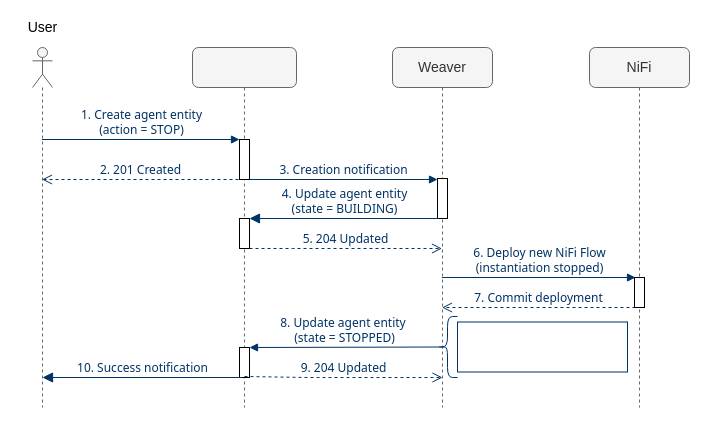
Some shapes in this 707 by 425 pixel diagram are drawn without their labels. Here are the shapes that lost their labels. From the top down, the centre of each, then its label:
point 244,227: Broker
point 542,346: stateInfo = "SUCCESS! Collection agent deployed successfully "
